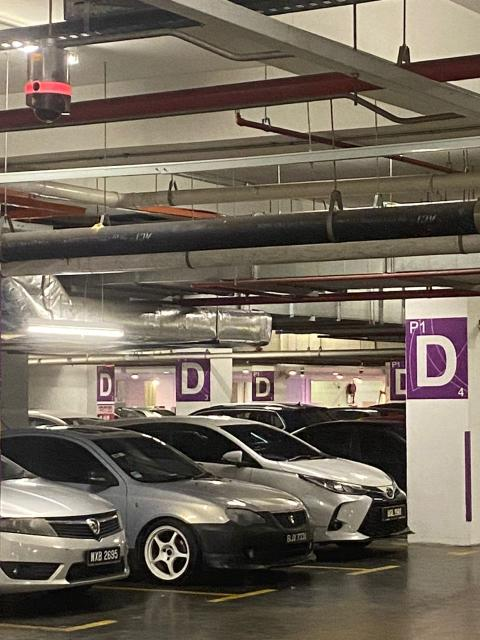License_Plate: (84, 547, 126, 568), (376, 504, 412, 524), (279, 530, 311, 550)
car: (12, 427, 321, 585), (143, 415, 416, 558), (1, 449, 137, 596)
